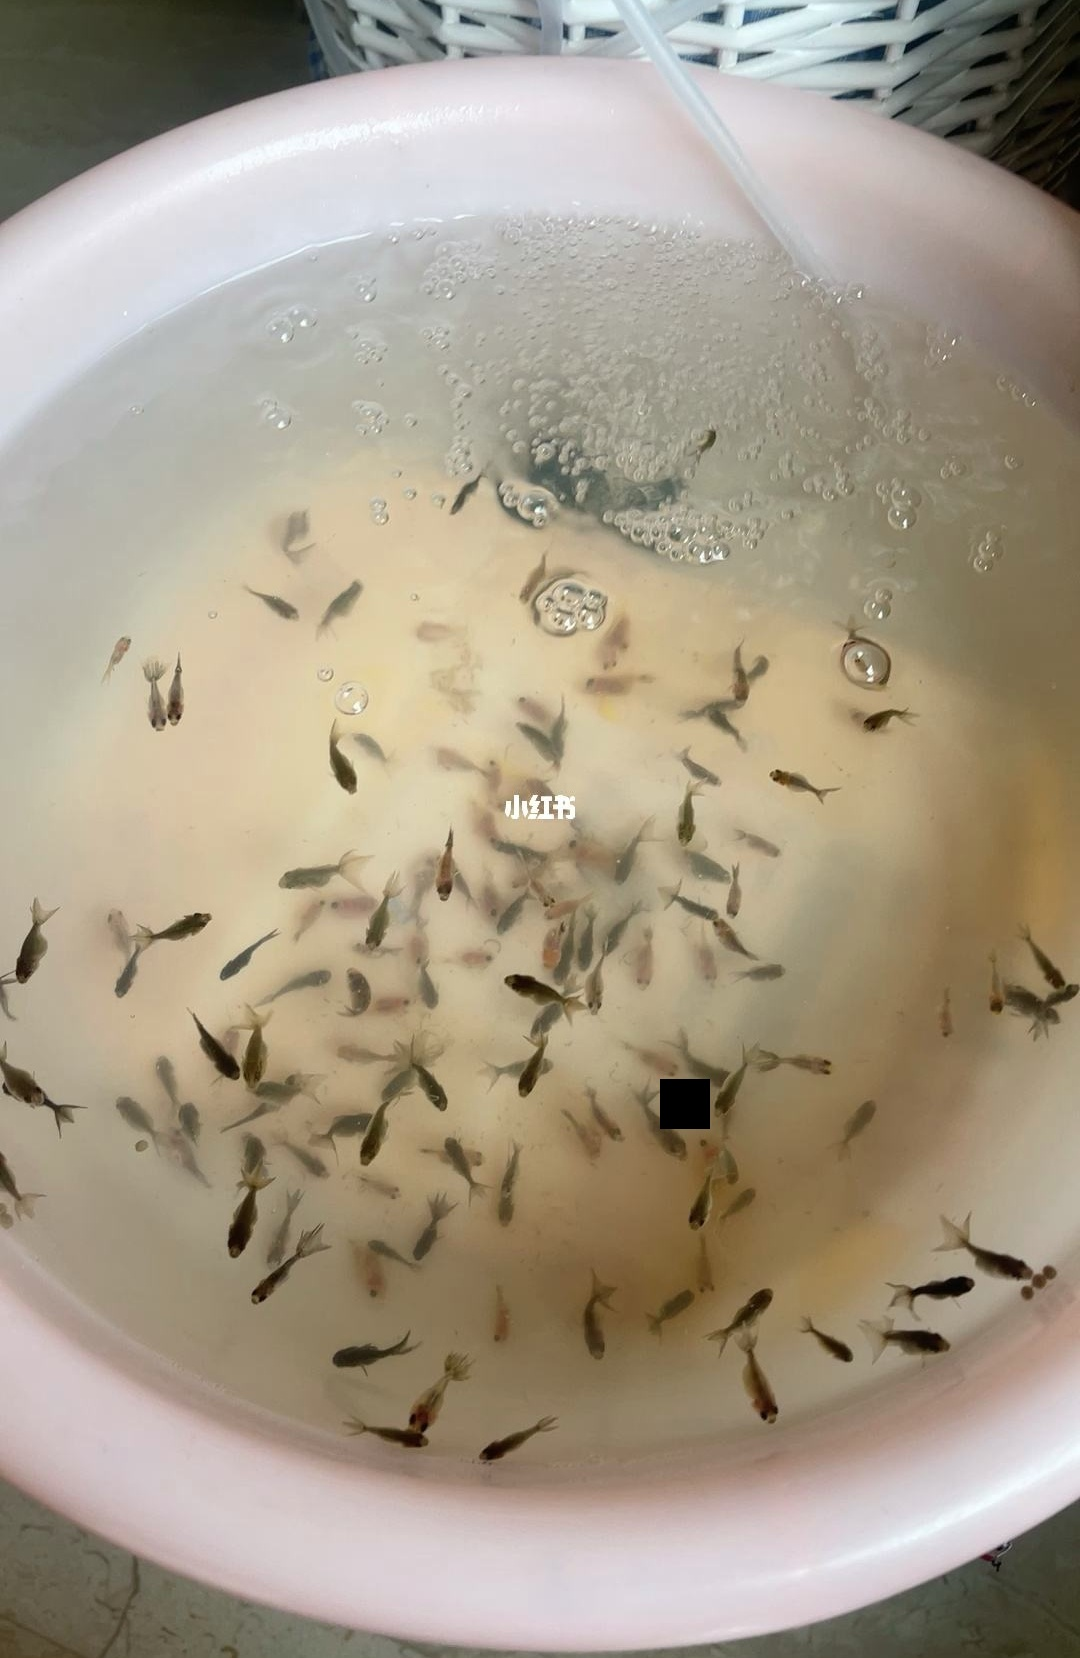fry: (943, 1214, 1059, 1286), (394, 1357, 484, 1440), (821, 610, 905, 695), (561, 1282, 629, 1372), (890, 1260, 988, 1323), (5, 1048, 80, 1129), (731, 1338, 791, 1434), (303, 569, 371, 650), (759, 1033, 852, 1091), (135, 903, 233, 956), (304, 1323, 410, 1372), (790, 1308, 865, 1374), (474, 1418, 556, 1478), (873, 1312, 966, 1366), (829, 1076, 890, 1155), (490, 1148, 546, 1233), (429, 1134, 495, 1202), (718, 1280, 788, 1343), (208, 933, 280, 993), (844, 692, 931, 742), (312, 729, 365, 810), (10, 906, 57, 997), (432, 465, 503, 523), (210, 1192, 263, 1266), (639, 1091, 691, 1167), (503, 546, 563, 611), (765, 756, 831, 816), (429, 825, 474, 912), (259, 854, 352, 895), (714, 640, 767, 708), (265, 503, 323, 563), (358, 876, 401, 953), (586, 616, 646, 672), (342, 1263, 397, 1323), (95, 891, 140, 966), (597, 831, 648, 897), (108, 1091, 166, 1148), (167, 1120, 214, 1189), (248, 1067, 307, 1121), (644, 1279, 695, 1340), (82, 624, 139, 678), (590, 1088, 640, 1148), (925, 966, 963, 1047), (354, 1424, 440, 1459), (346, 718, 405, 769), (480, 1285, 526, 1350), (1024, 931, 1069, 997), (252, 580, 310, 631), (1020, 984, 1066, 1048), (352, 1106, 401, 1165), (159, 650, 194, 734), (197, 1027, 242, 1092), (144, 1042, 190, 1105), (707, 1063, 754, 1123), (407, 610, 469, 655), (233, 1127, 281, 1184), (620, 1034, 683, 1078), (622, 937, 663, 1003), (242, 1263, 295, 1314), (670, 886, 725, 935), (410, 1214, 465, 1263), (573, 669, 646, 706), (727, 952, 790, 995), (697, 1123, 747, 1176), (686, 1237, 728, 1299), (519, 723, 563, 782), (673, 748, 725, 798), (552, 825, 605, 874), (414, 1065, 463, 1118), (493, 963, 557, 1003), (563, 1112, 605, 1171), (137, 672, 169, 748), (678, 1037, 727, 1086), (737, 825, 788, 873), (699, 698, 751, 744), (1, 1165, 46, 1218), (318, 1103, 371, 1148), (663, 788, 707, 842), (240, 1011, 271, 1089), (431, 671, 480, 718), (412, 960, 448, 1020), (105, 957, 150, 1005), (714, 920, 763, 963), (985, 950, 1014, 1024), (591, 912, 631, 966), (294, 1142, 339, 1188), (519, 1005, 571, 1044), (677, 1176, 712, 1233), (488, 895, 527, 946), (339, 966, 374, 1021), (290, 960, 335, 1003), (724, 1179, 765, 1225), (288, 899, 339, 935), (480, 827, 532, 863), (365, 1171, 416, 1206), (518, 879, 567, 914), (172, 1095, 210, 1138), (503, 689, 556, 720), (474, 876, 505, 929), (331, 885, 376, 921), (454, 940, 499, 976), (689, 856, 734, 889), (361, 1223, 407, 1257), (569, 929, 597, 984), (1049, 972, 1080, 1016), (538, 924, 567, 972), (582, 982, 614, 1025), (535, 899, 588, 923), (716, 880, 747, 920), (556, 943, 577, 997), (382, 982, 410, 1018)
